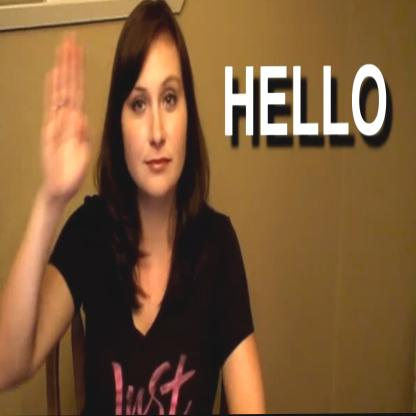Hello: (23, 0, 206, 207)
